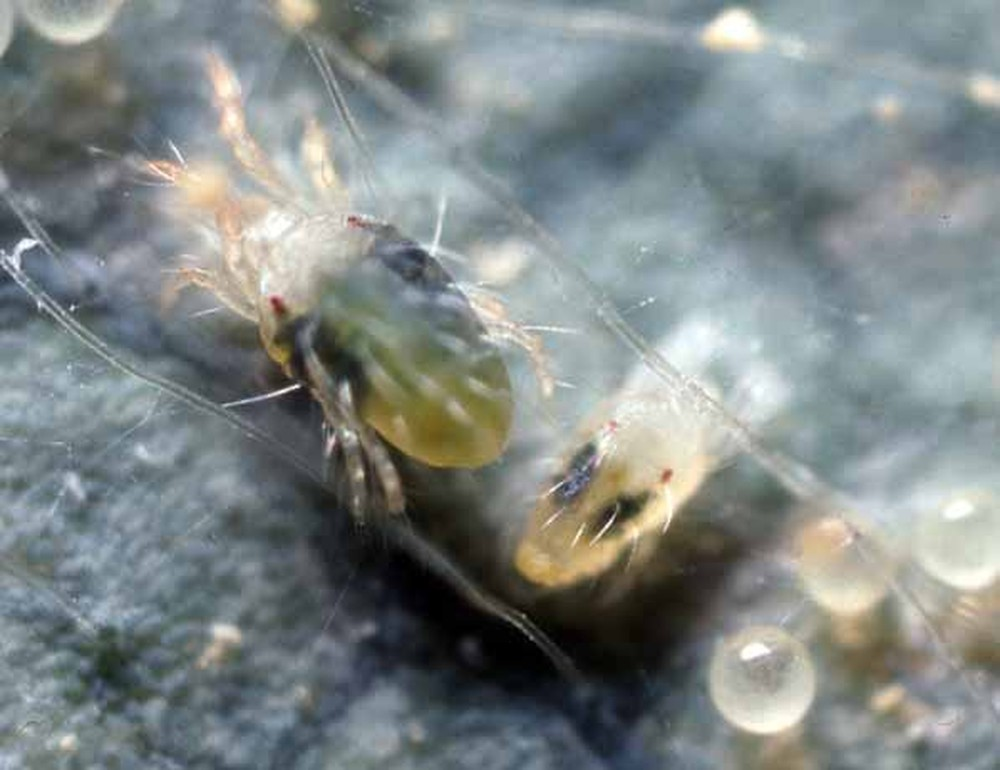Aracnido Rojo: (105, 62, 541, 536), (512, 344, 793, 617)
